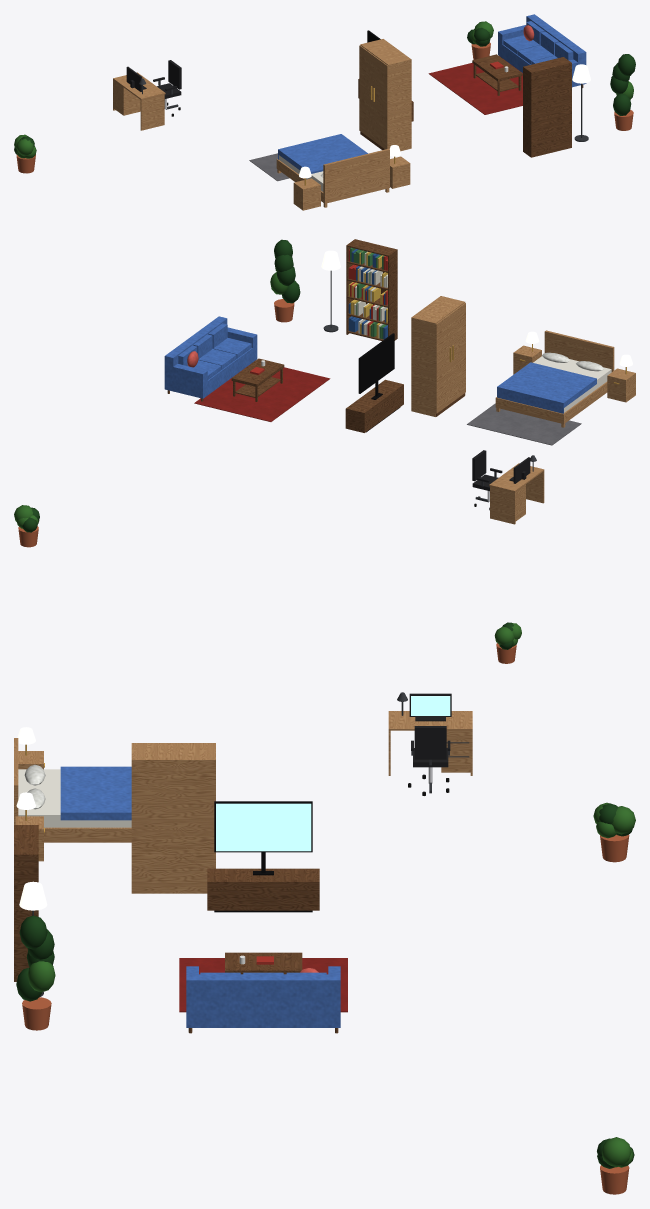
The model's file is i_thai_stilt_house.gltf.
3 views of the same model, one above another, from view 1: azimuth 30°, elevation 25°; view 2: azimuth 150°, elevation 25°; view 3: azimuth 270°, elevation 25° (orthographic). The views are drawn at different scales.
Visible parts, largest first — view 1: I_thai_stilt_house; view 2: I_thai_stilt_house; view 3: I_thai_stilt_house.
Boxes of the visible parts, bbox=[...] form: I_thai_stilt_house: bbox=[14, 14, 635, 210]; I_thai_stilt_house: bbox=[14, 239, 635, 663]; I_thai_stilt_house: bbox=[14, 692, 635, 1194].
Size of the model in its own units: 11.76 by 4.1 by 8.86.
26 materials, 8 textured.
